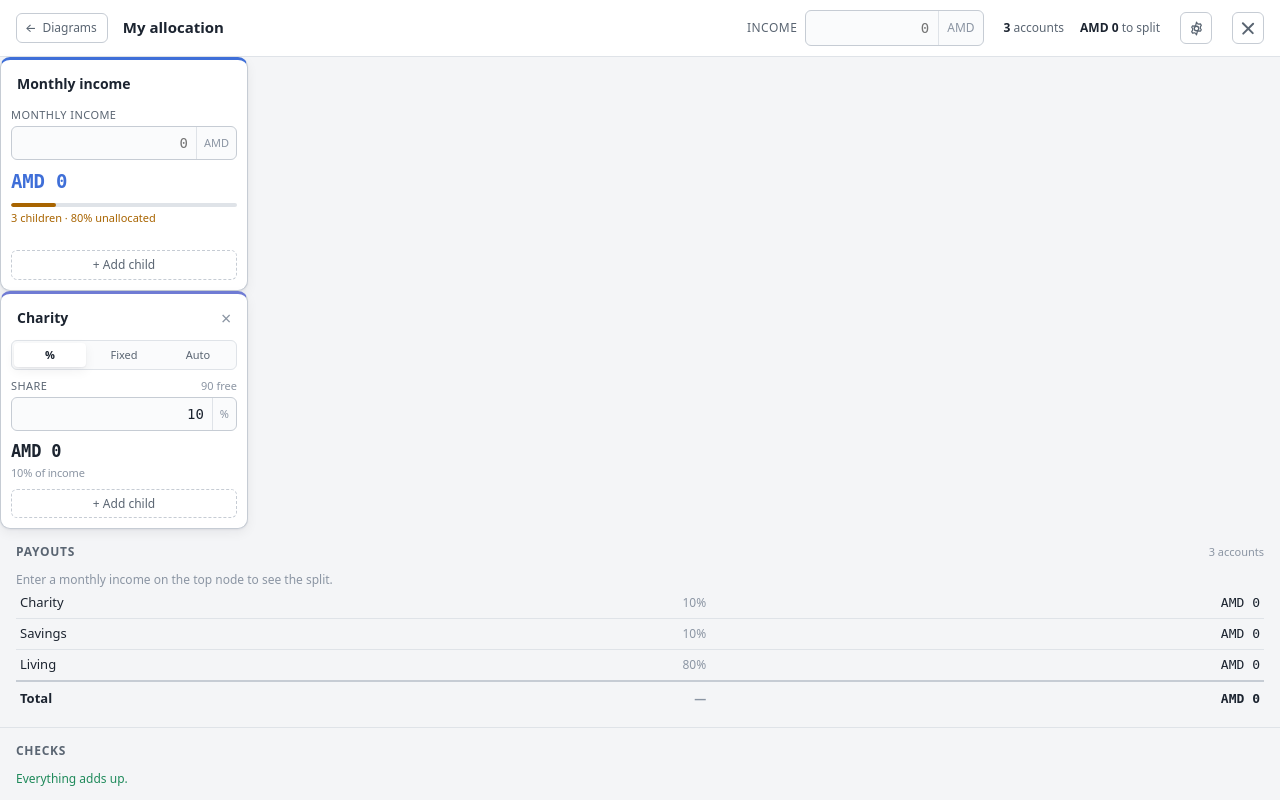
Test: editing a node › renames it and the payout table follows
Replace the text in the field named "Node name" with "Tithe" at (111, 318), box [11, 304, 211, 332]
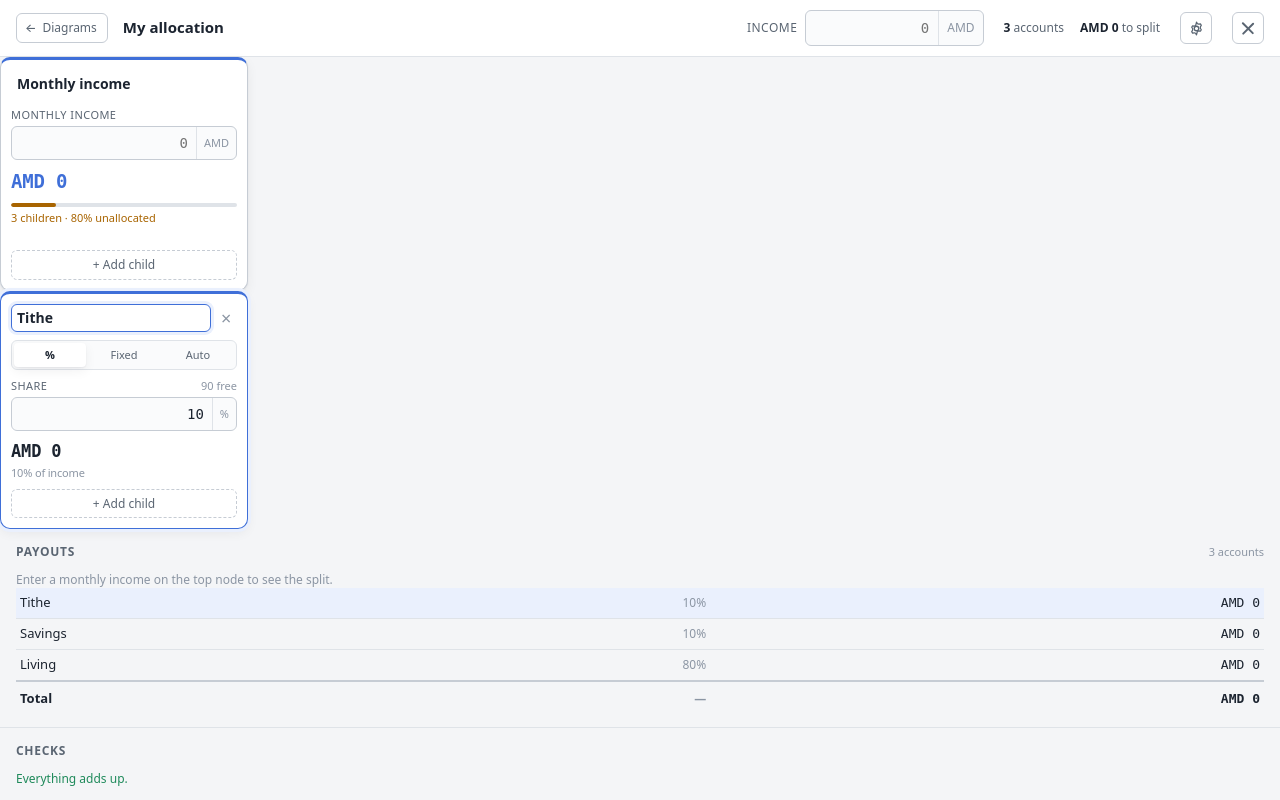
Check: the text "Tithe" is shown, box [20, 593, 51, 611]
